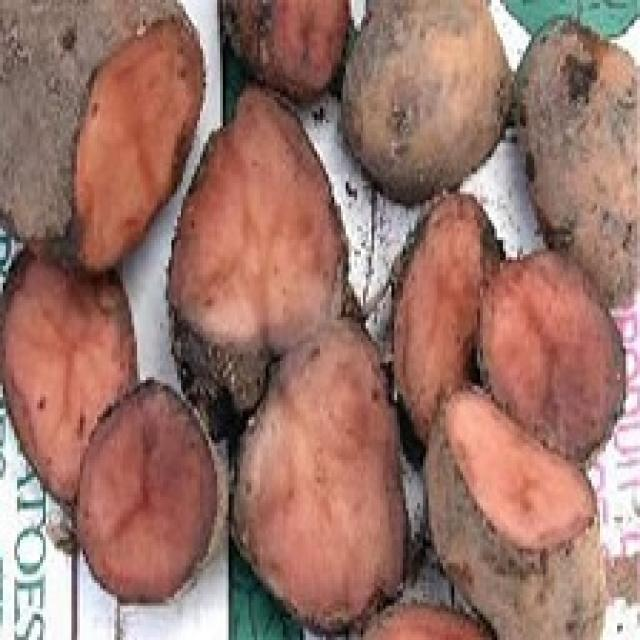pink_rot: (380, 183, 640, 640), (0, 226, 228, 616), (217, 305, 422, 640), (157, 75, 359, 412), (0, 0, 212, 288)
